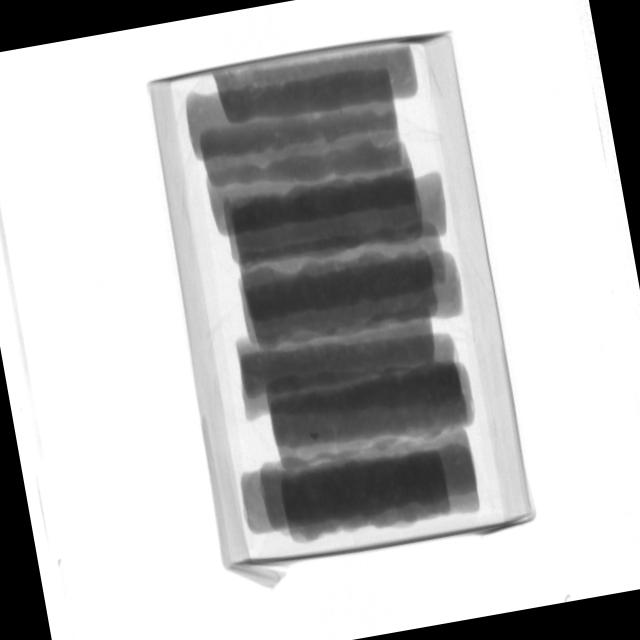ym: (310, 430, 319, 439)
